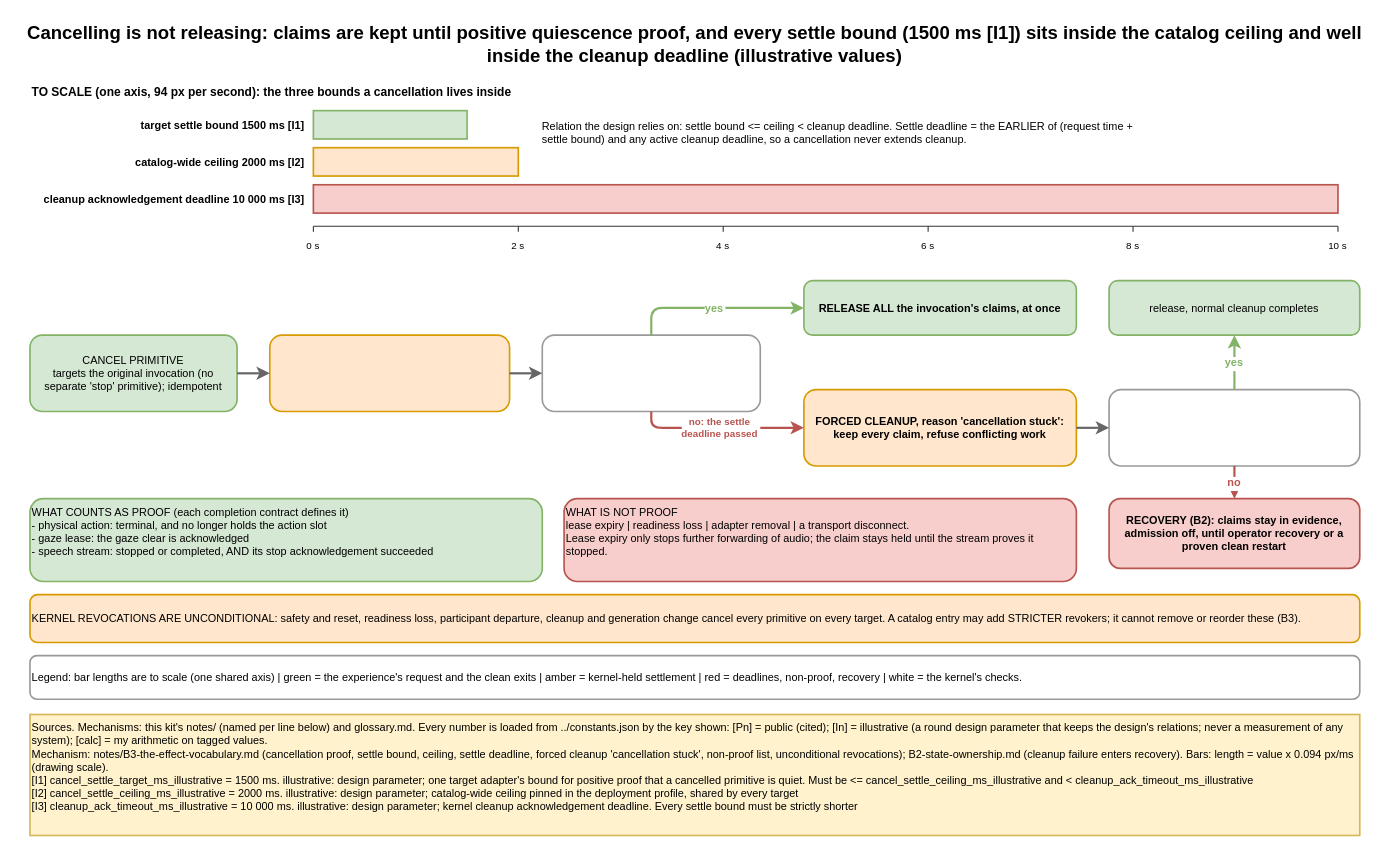
This 1389x855 diagram has some shape labels left out. The centre of each missing label's shape, as x and y in pixels:
"positive proof before the settle deadline?" belongs at point (651, 373).
"quiescence proved before the cleanup deadline?" belongs at point (1234, 427).
"SETTLING every claim still held; the adapter must produce quiescence proof" belongs at point (389, 373).
